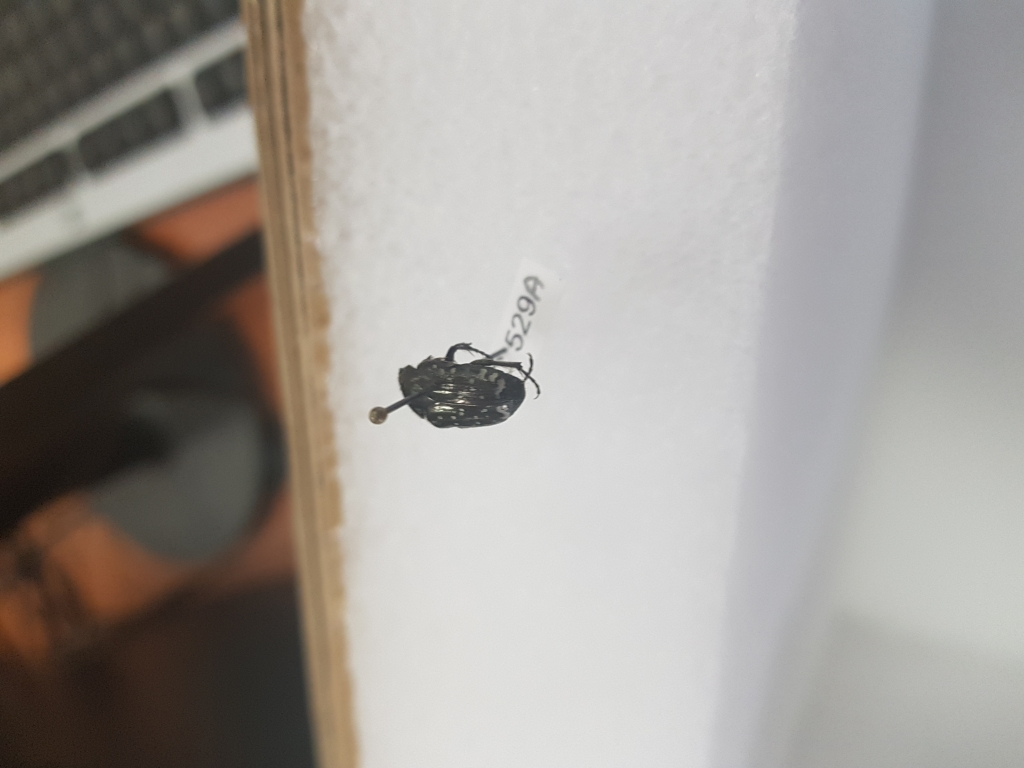Oxythyrea_funesta: (387, 339, 548, 444)
